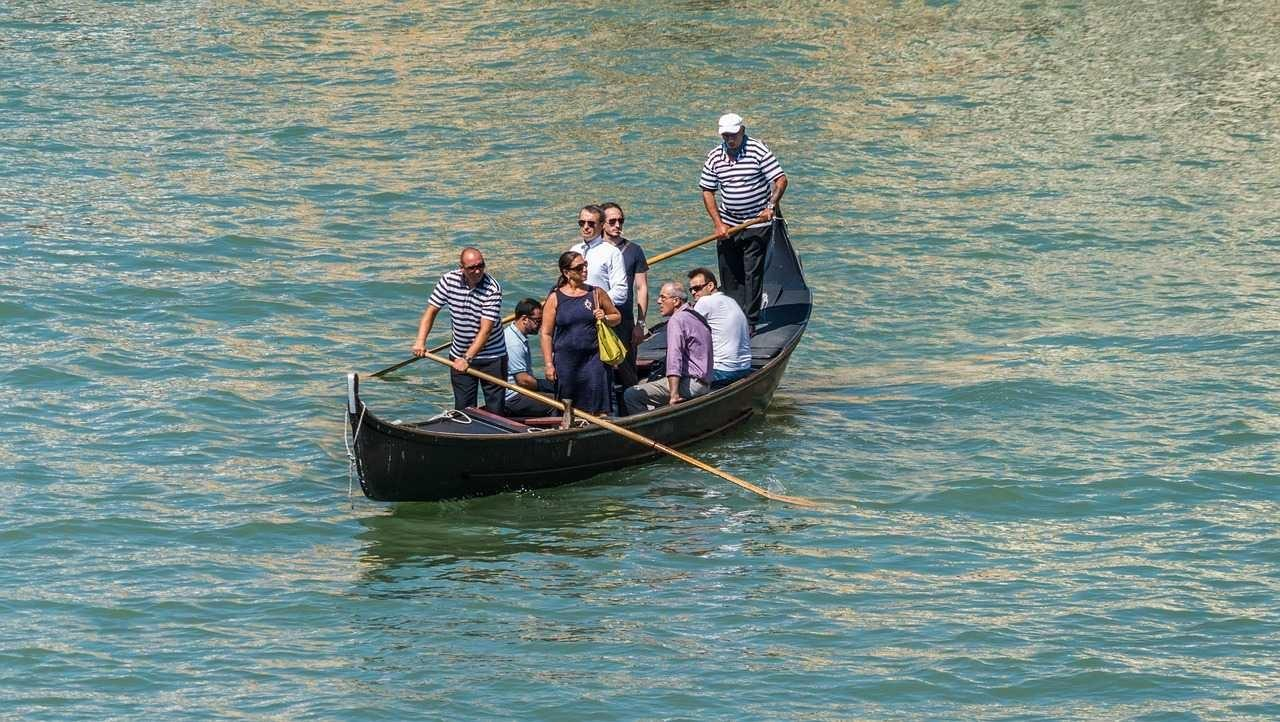kayak: (347, 227, 814, 505)
